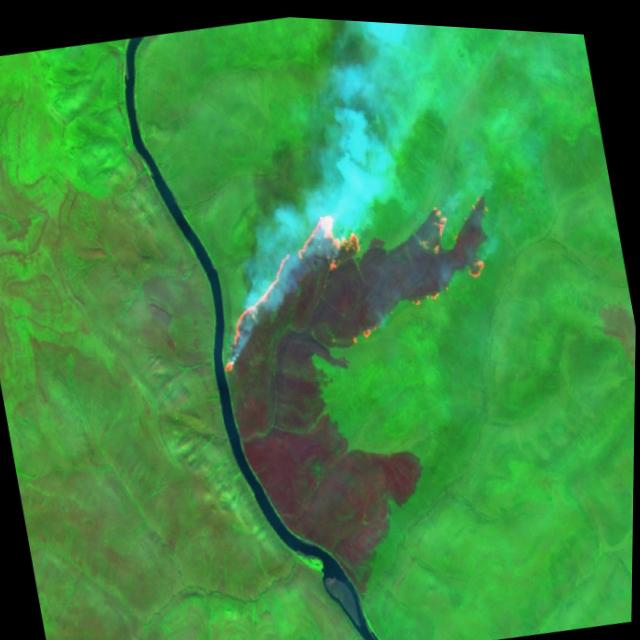fire: (189, 161, 523, 393)
